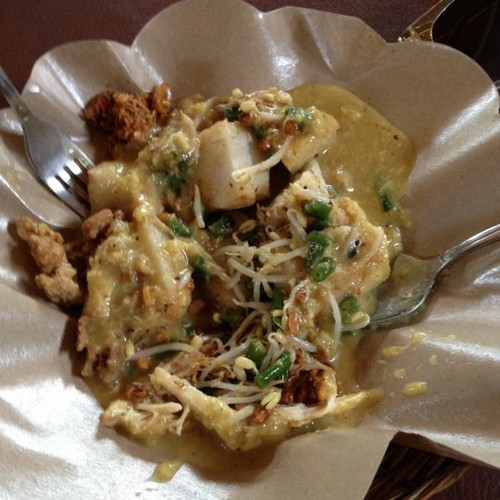tipat blayag: (33, 88, 391, 443)
